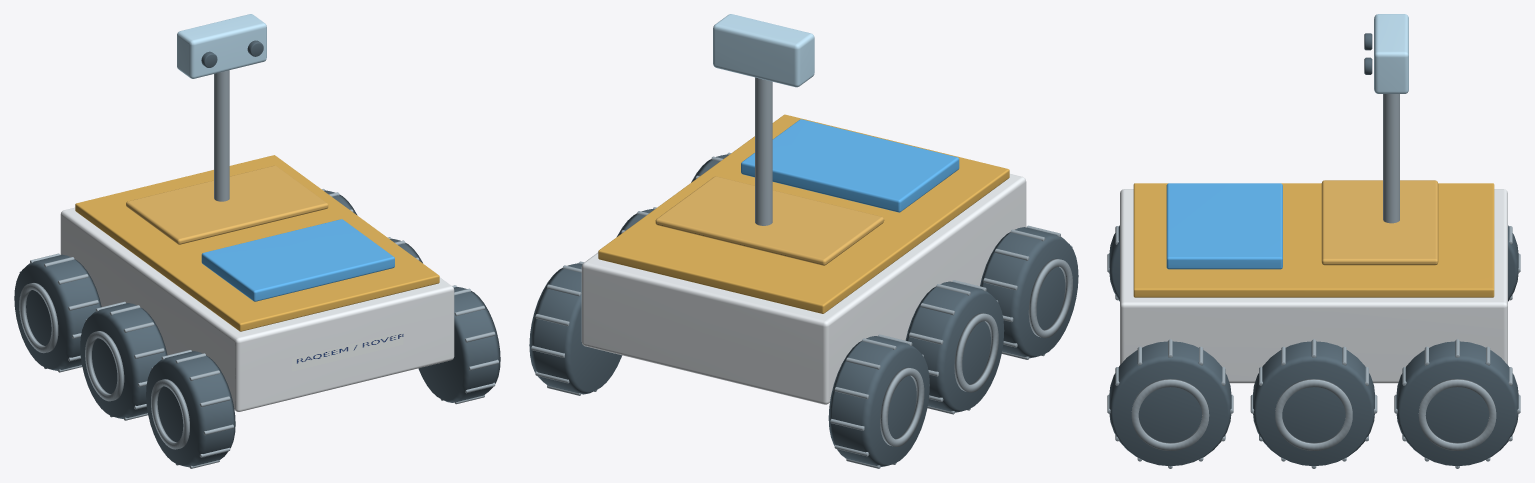
File: exploration_rover.glb
3 renders of one model, left to right at view 1: azimuth 30°, elevation 25°; view 2: azimuth 150°, elevation 25°; view 3: azimuth 270°, elevation 25°, orthographic. The views are drawn at different scales.
Visible parts, largest first — view 1: Rover_Chassis, Rover_Top, Sample_Lid, Rover_Top_Cargo_Plate, Wheel_Tire-1_2, Wheel_Tire-1_0, Wheel_Tire-1_1, Wheel_Tire1_2, Stereo_Camera, Mast, Rover_Label, Wheel_Hub-1_0 (+2 smaller); view 2: Rover_Chassis, Rover_Top, Sample_Lid, Rover_Top_Cargo_Plate, Wheel_Tire-1_0, Wheel_Tire-1_1, Wheel_Tire-1_2, Wheel_Tire1_0, Stereo_Camera, Mast, Wheel_Hub-1_0, Wheel_Hub-1_1 (+1 smaller); view 3: Rover_Chassis, Rover_Top, Wheel_Tire1_1, Wheel_Tire1_0, Wheel_Tire1_2, Sample_Lid, Rover_Top_Cargo_Plate, Stereo_Camera, Mast, Wheel_Hub1_1, Wheel_Hub1_0, Wheel_Hub1_2 (+2 smaller).
Boxes of the visible parts, x1,y1,x2,y2 form: Rover_Chassis: (60, 207, 454, 411); Rover_Top: (75, 155, 439, 331); Sample_Lid: (201, 219, 394, 301); Rover_Top_Cargo_Plate: (126, 165, 328, 244); Wheel_Tire-1_2: (146, 351, 235, 467); Wheel_Tire-1_0: (14, 254, 101, 370); Wheel_Tire-1_1: (80, 303, 167, 418); Wheel_Tire1_2: (418, 287, 500, 402); Stereo_Camera: (177, 14, 266, 78); Mast: (214, 70, 229, 201); Rover_Label: (292, 331, 403, 371); Wheel_Hub-1_0: (19, 283, 58, 353); Rover_Chassis: (581, 174, 1026, 404); Rover_Top: (598, 114, 1009, 313); Sample_Lid: (741, 119, 959, 212); Rover_Top_Cargo_Plate: (655, 176, 884, 265); Wheel_Tire-1_0: (828, 336, 929, 466); Wheel_Tire-1_1: (905, 281, 1004, 412); Wheel_Tire-1_2: (980, 227, 1078, 358); Wheel_Tire1_0: (529, 263, 622, 394); Stereo_Camera: (713, 14, 814, 87); Mast: (755, 77, 772, 225); Wheel_Hub-1_0: (880, 367, 924, 446); Wheel_Hub-1_1: (954, 313, 998, 392); Rover_Chassis: (1120, 189, 1507, 383); Rover_Top: (1133, 183, 1494, 297); Wheel_Tire1_1: (1253, 341, 1374, 465); Wheel_Tire1_0: (1396, 341, 1518, 466); Wheel_Tire1_2: (1109, 341, 1231, 466); Sample_Lid: (1166, 183, 1282, 269); Rover_Top_Cargo_Plate: (1321, 180, 1438, 265); Stereo_Camera: (1374, 14, 1408, 93); Mast: (1383, 94, 1399, 223); Wheel_Hub1_1: (1275, 379, 1352, 450); Wheel_Hub1_0: (1418, 379, 1496, 450); Wheel_Hub1_2: (1131, 379, 1209, 450).
Size of the model in its own units: 1 by 1.02 by 1.07.
Materials: 11 (1 with a texture image).
